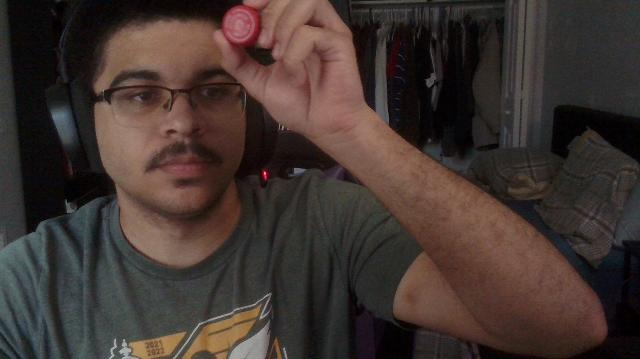cap: (223, 6, 261, 46)
